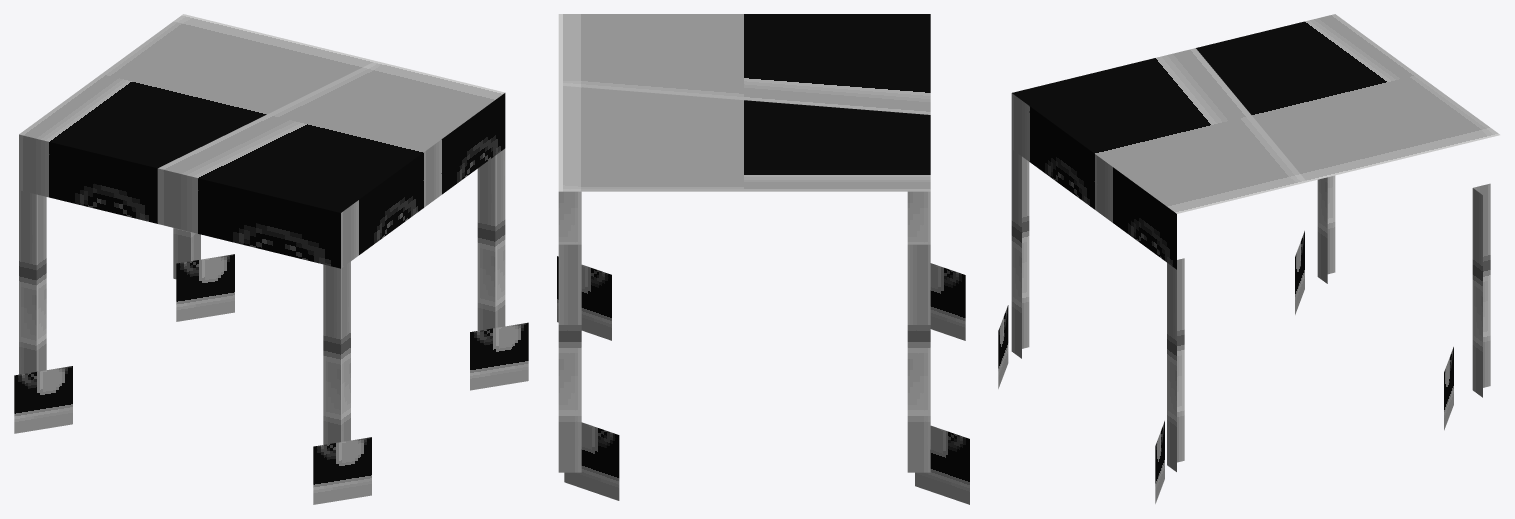
3 views of the same model, side by side, from view 1: azimuth 30°, elevation 25°; view 2: azimuth 150°, elevation 25°; view 3: azimuth 270°, elevation 25° (orthographic). The views are drawn at different scales.
Parts seen in each view (by area): view 1: 1120item591; view 2: 1120item591; view 3: 1120item591.
Part boxes in pixels (x1,y1,x2,y2): 1120item591: [14, 14, 528, 504]; 1120item591: [557, 14, 969, 504]; 1120item591: [998, 14, 1499, 503].
Bounding box in the file's own units: 1.42 × 0.8718 × 1.39.
Materials: 1 (1 with a texture image).
